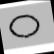no answer: (4, 8, 42, 40)
